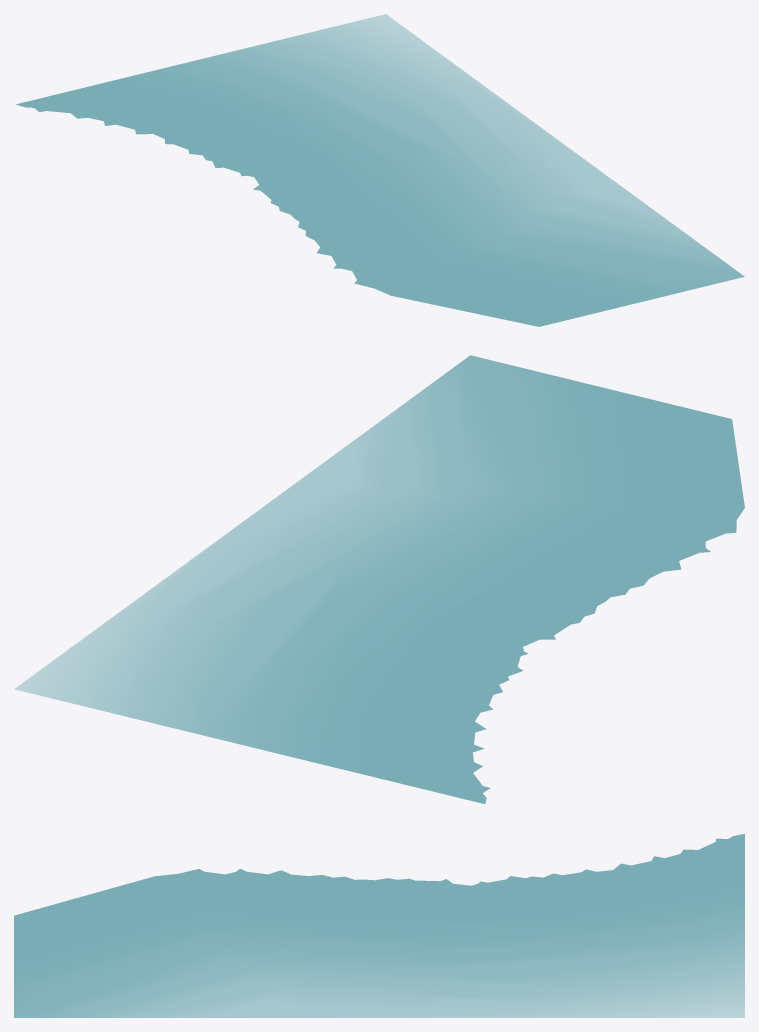
3 views of the same model, one above another, from view 1: azimuth 30°, elevation 25°; view 2: azimuth 150°, elevation 25°; view 3: azimuth 270°, elevation 25° (orthographic). The views are drawn at different scales.
Visible parts, largest first — view 1: city; view 2: city; view 3: city.
Part boxes in pixels (left/top/right/bottom): city: left=15, top=14, right=744, bottom=326; city: left=14, top=355, right=744, bottom=803; city: left=14, top=834, right=744, bottom=1017.
Bounding box in the file's own units: 299 × 0 × 500.
